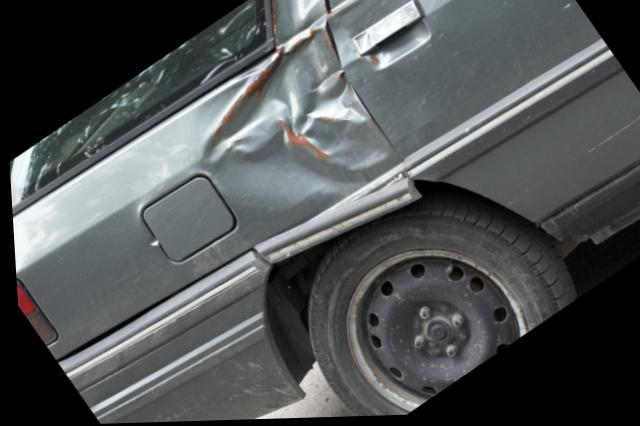dent: (195, 25, 389, 212)
